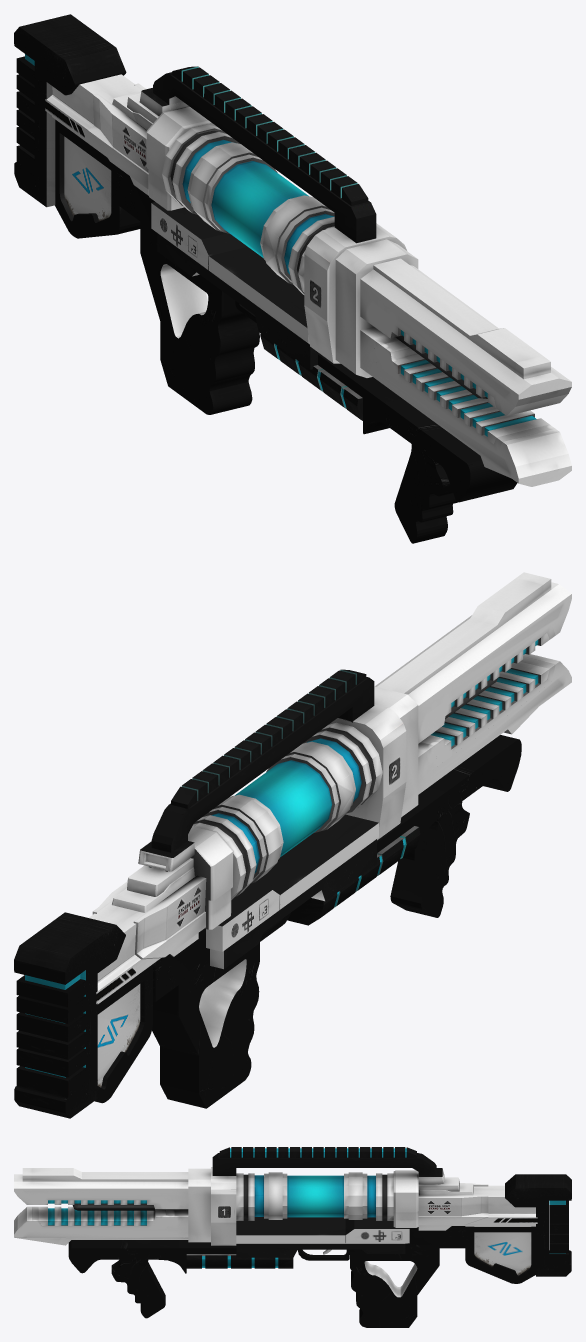
The model's file is asaltoDrop.obj.
The picture shows the model from 3 angles, top to bottom: view 1: azimuth 30°, elevation 25°; view 2: azimuth 150°, elevation 25°; view 3: azimuth 270°, elevation 25°; orthographic projection. The views are drawn at different scales.
Visible parts, largest first — view 1: Line0010 group8 group7 group6 group5 group4 group3 group2 group1, group8 group7 group6 group5 group4 group3 group2 group1 Line018; view 2: Line0010 group8 group7 group6 group5 group4 group3 group2 group1, group8 group7 group6 group5 group4 group3 group2 group1 Line018; view 3: Line0010 group8 group7 group6 group5 group4 group3 group2 group1, group8 group7 group6 group5 group4 group3 group2 group1 Line018.
Part boxes in pixels (<box>): Line0010 group8 group7 group6 group5 group4 group3 group2 group1: <box>45,66,571,486</box>; group8 group7 group6 group5 group4 group3 group2 group1 Line018: <box>14,14,517,543</box>; Line0010 group8 group7 group6 group5 group4 group3 group2 group1: <box>89,572,571,1003</box>; group8 group7 group6 group5 group4 group3 group2 group1 Line018: <box>14,735,521,1118</box>; Line0010 group8 group7 group6 group5 group4 group3 group2 group1: <box>14,1147,537,1245</box>; group8 group7 group6 group5 group4 group3 group2 group1 Line018: <box>68,1174,571,1327</box>.
Bounding box in the file's own units: 0.6339 × 2.38 × 6.94.
